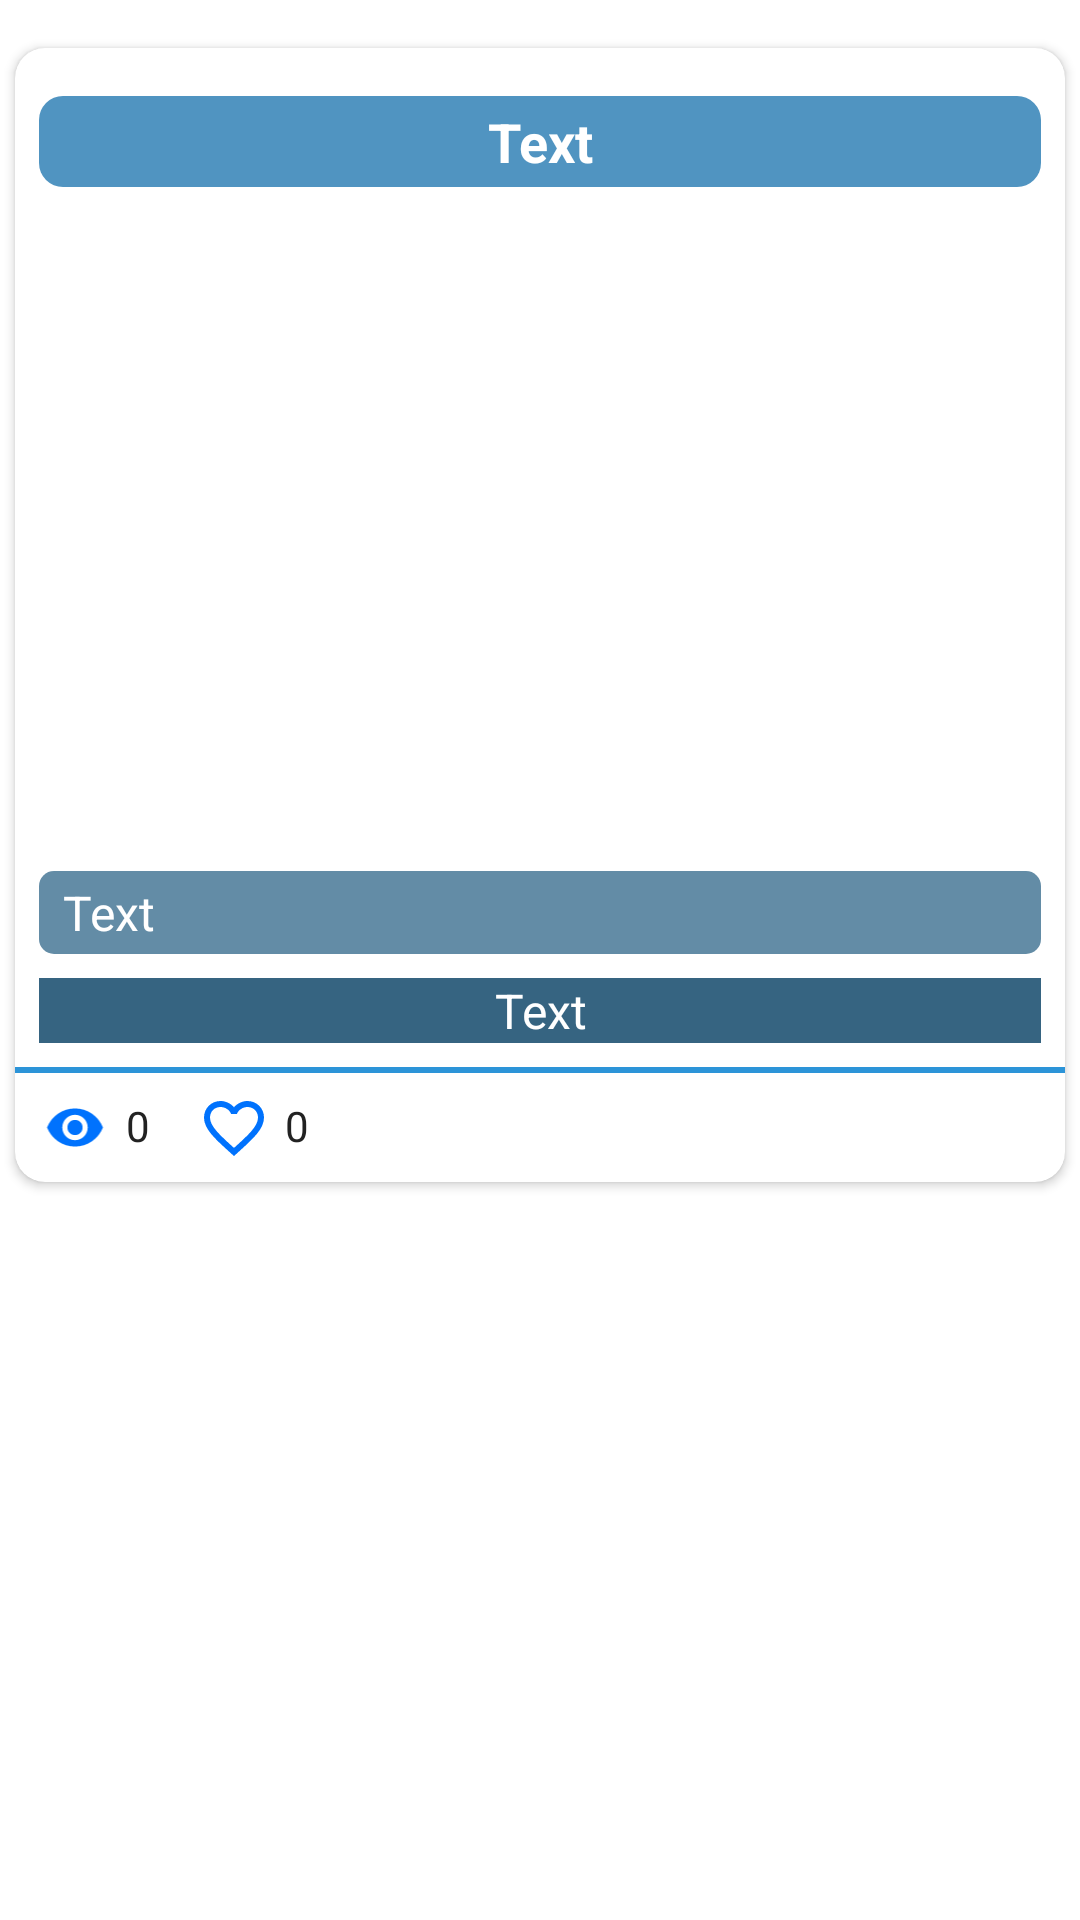

Screen size 1080w x 1920h. Icon name, then its center in pixels as (x,y):
no fav: (234,1128)
views: (75,1127)
